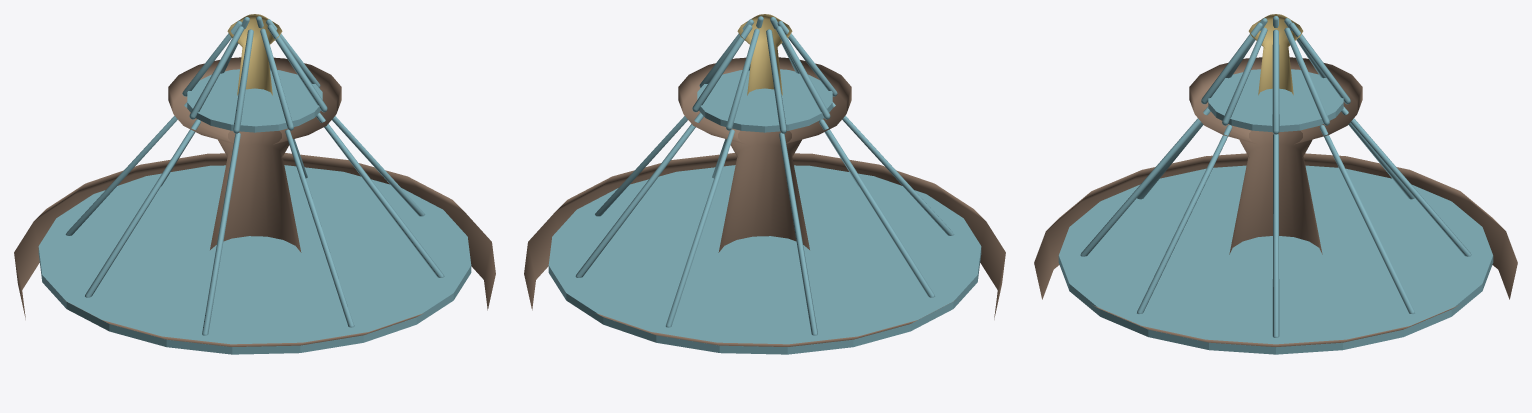
Rendered from casFountain.glb.
3 renders of one model, left to right at view 1: azimuth 30°, elevation 25°; view 2: azimuth 150°, elevation 25°; view 3: azimuth 270°, elevation 25°, orthographic.
Visible parts, largest first — view 1: lobby-fountain; view 2: lobby-fountain; view 3: lobby-fountain.
Part boxes in pixels (left/top/right/bottom): lobby-fountain: left=14, top=14, right=495, bottom=354; lobby-fountain: left=524, top=14, right=1005, bottom=354; lobby-fountain: left=1034, top=14, right=1517, bottom=354.
Size of the model in its own units: 3.52 by 2.26 by 3.52.
